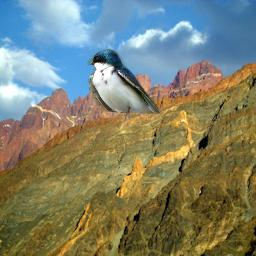Swallow: (87, 48, 163, 125)
